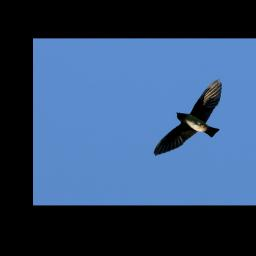Swallow: (156, 79, 225, 157)
